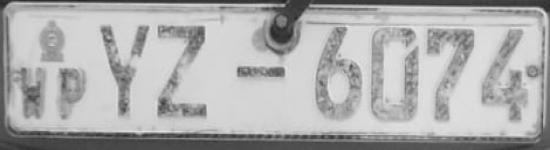-: (233, 61, 289, 84)
0: (365, 24, 422, 131)
4: (478, 25, 534, 128)
6: (308, 22, 367, 128)
7: (422, 23, 478, 127)
P: (56, 62, 89, 126)
W: (16, 61, 49, 123)
Y: (96, 16, 152, 122)
Z: (153, 19, 215, 128)
